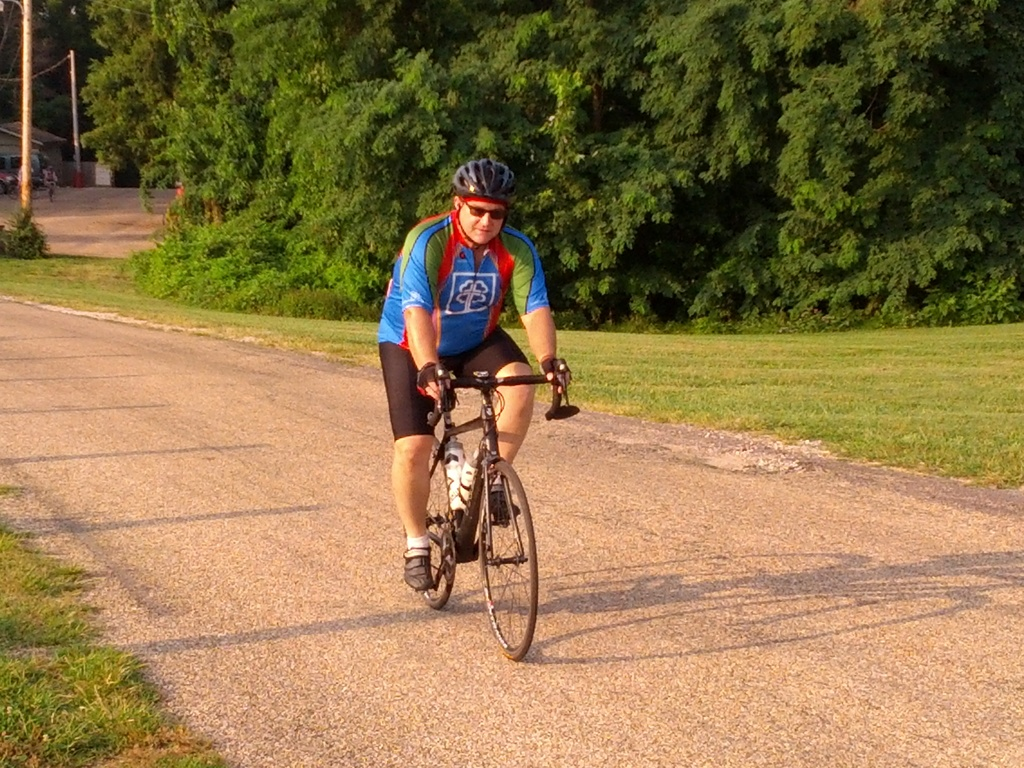Bike_toward: (359, 346, 557, 671)
